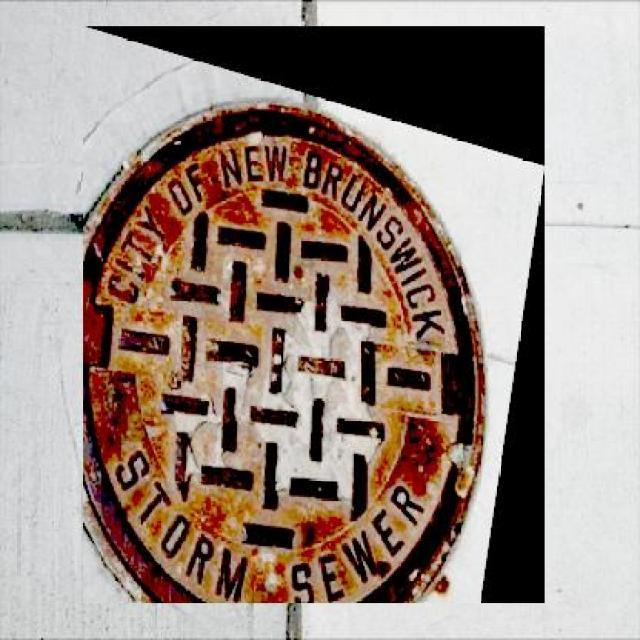Manhole: (83, 26, 545, 603)
